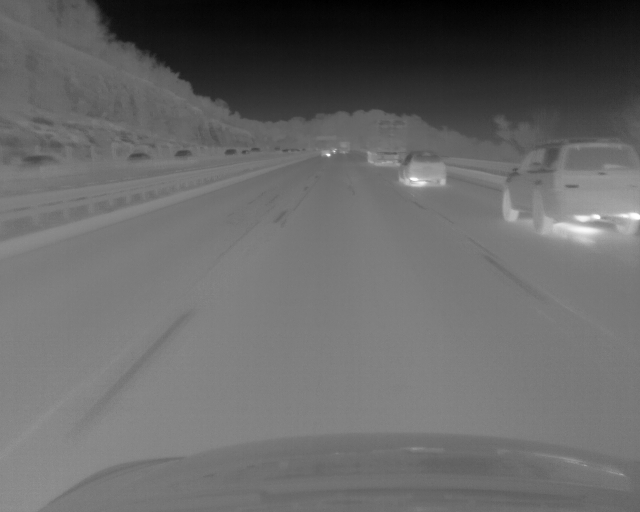car: (500, 137, 640, 238), (361, 120, 404, 163), (397, 152, 447, 188), (21, 154, 61, 165), (127, 153, 149, 160), (174, 149, 191, 157), (223, 148, 237, 157)
